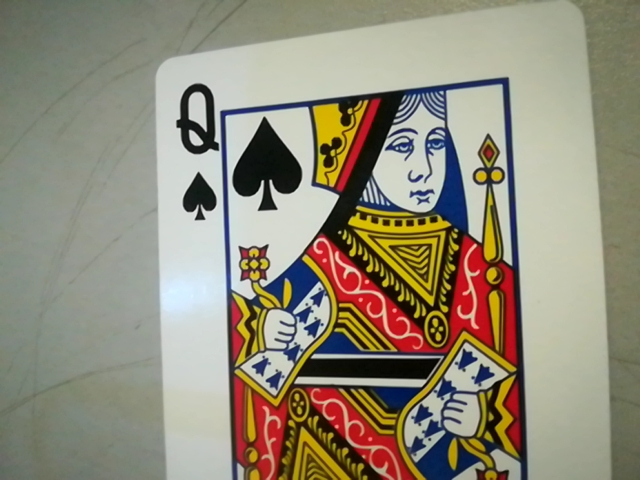ht q: (166, 75, 228, 223)
